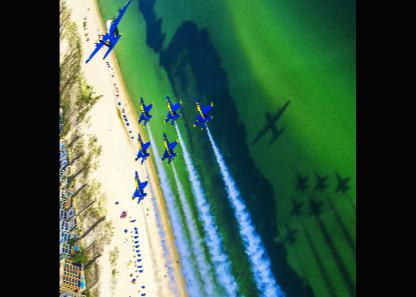Be200: (85, 0, 133, 64)
F15: (192, 96, 212, 129), (160, 131, 178, 165), (131, 168, 148, 203), (164, 94, 182, 126), (134, 132, 151, 164), (137, 96, 154, 127)
